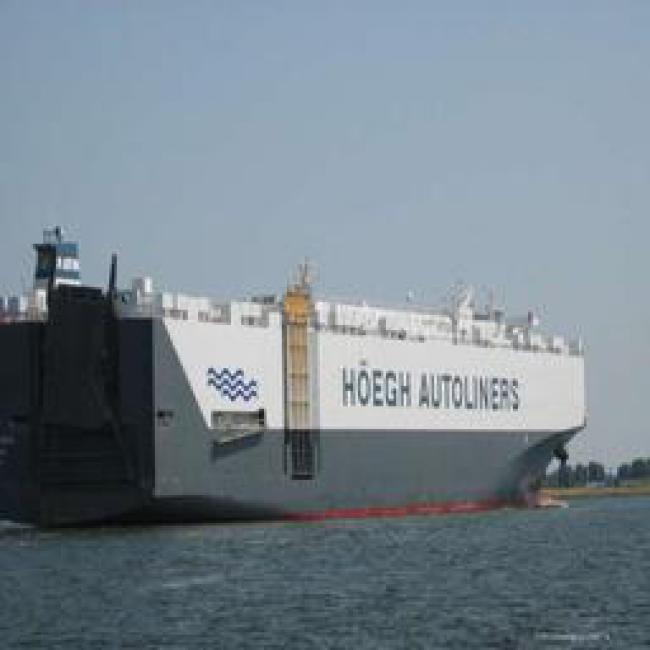Ship: (19, 266, 587, 499)
